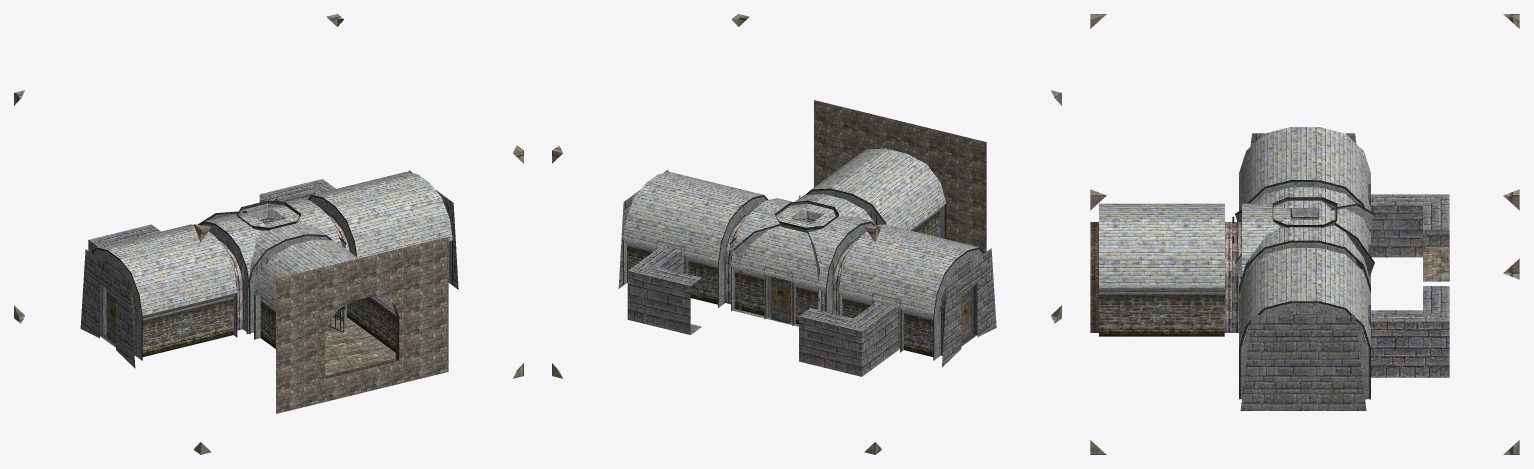
File: lbg_1a.glb
The picture shows the model from 3 angles, left to right: view 1: azimuth 30°, elevation 25°; view 2: azimuth 150°, elevation 25°; view 3: azimuth 270°, elevation 25°; orthographic projection. The views are drawn at different scales.
Visible parts, largest first — view 1: lbg_1a-col; view 2: lbg_1a-col; view 3: lbg_1a-col.
Boxes of the visible parts, box(x1,y1,x2,y2) form: lbg_1a-col: box(14, 14, 523, 454); lbg_1a-col: box(552, 14, 1061, 454); lbg_1a-col: box(1090, 14, 1519, 454).
Size of the model in its own units: 15 by 10 by 15.
12 materials, 12 textured.
